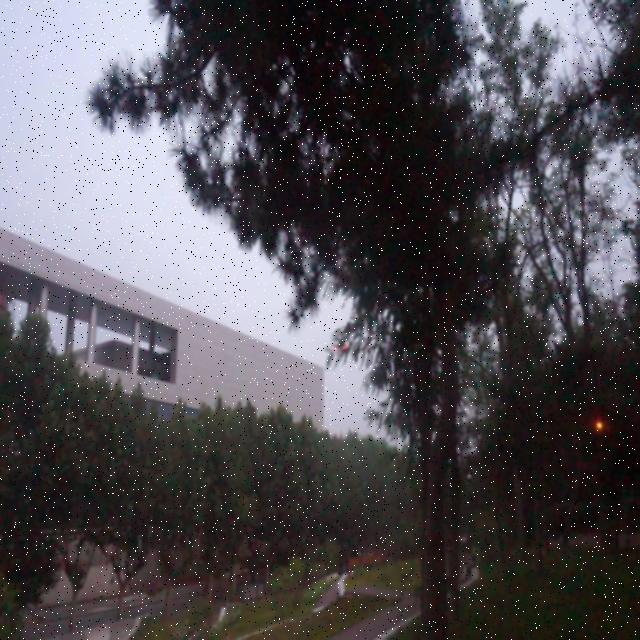UAV: (333, 345, 348, 358)
